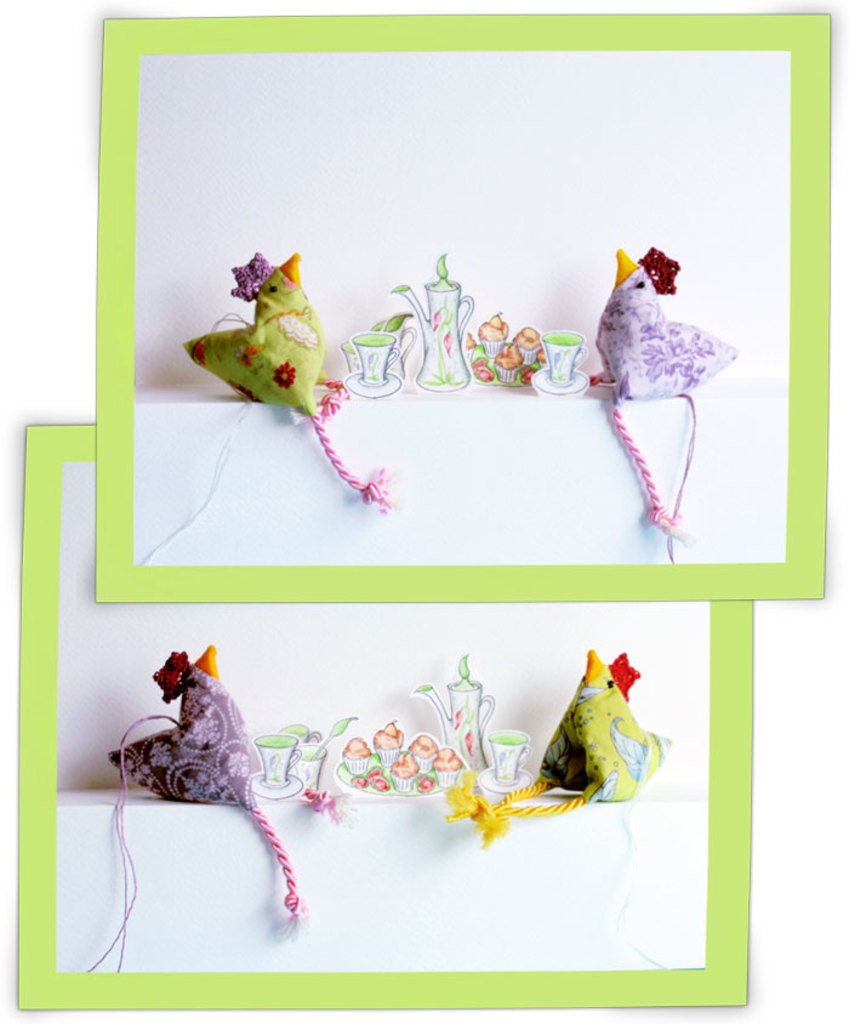person: (183, 250, 390, 514)
